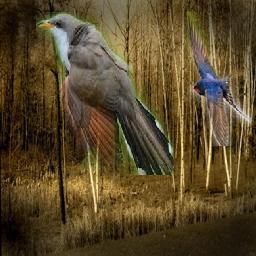Cuckoo: (36, 13, 174, 176)
Swallow: (187, 12, 251, 147)
